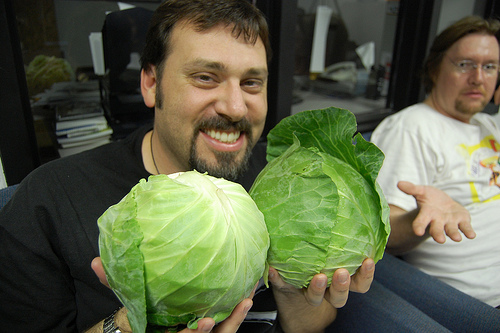cabbage: (91, 167, 273, 332), (249, 105, 388, 292)
